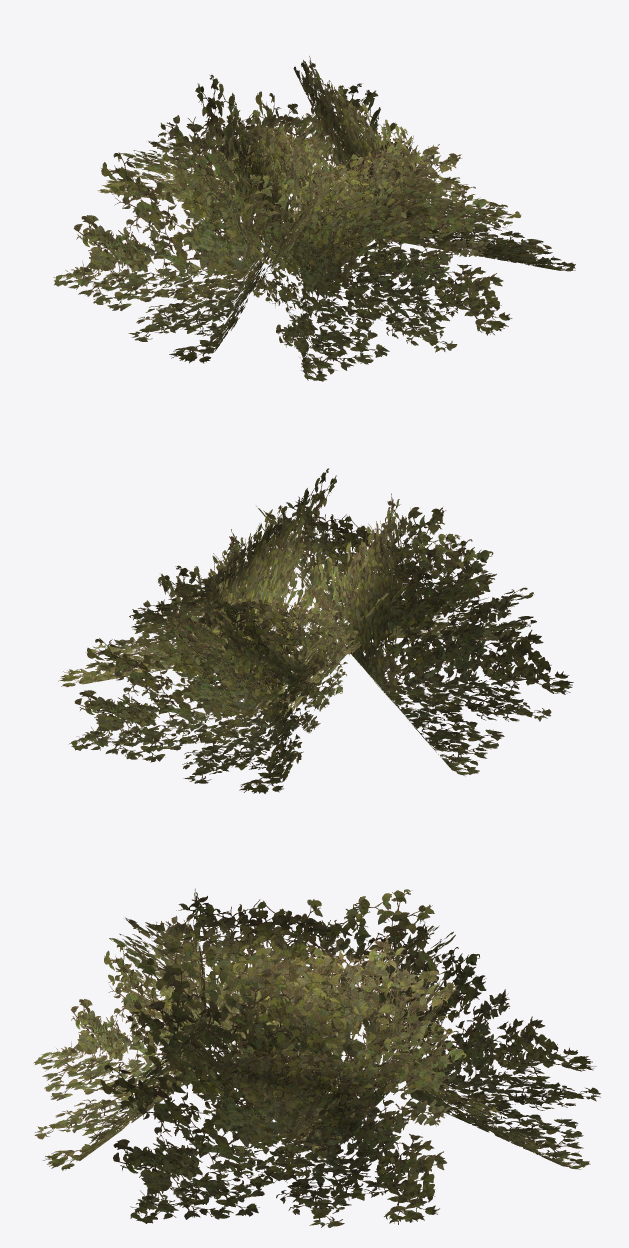
File: shrb_giantlickbush_ltgreen_a2_l2.fbx
3 renders of one model, top to bottom at view 1: azimuth 30°, elevation 25°; view 2: azimuth 150°, elevation 25°; view 3: azimuth 270°, elevation 25°, orthographic. The views are drawn at different scales.
Visible parts, largest first — view 1: mesh_node; view 2: mesh_node; view 3: mesh_node.
Boxes of the visible parts, bbox=[...] form: mesh_node: bbox=[53, 56, 575, 381]; mesh_node: bbox=[58, 468, 573, 793]; mesh_node: bbox=[33, 888, 600, 1227].
Bounding box in the file's own units: 4.78 × 2.24 × 4.85.
